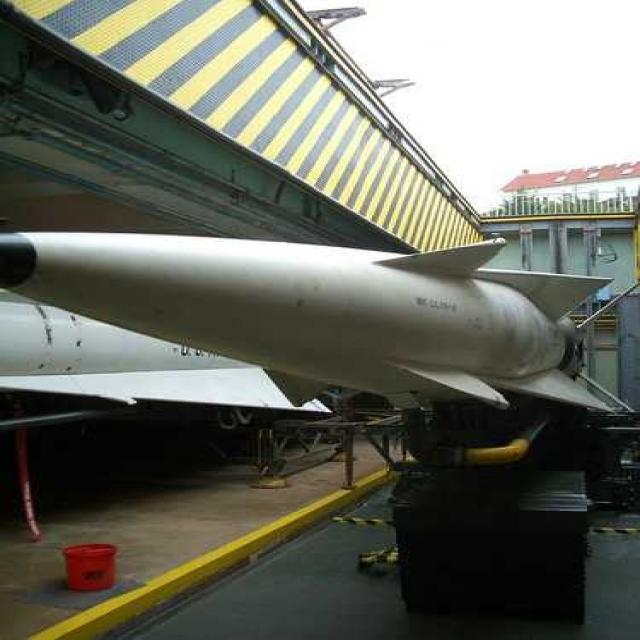missile: (4, 223, 618, 417)
